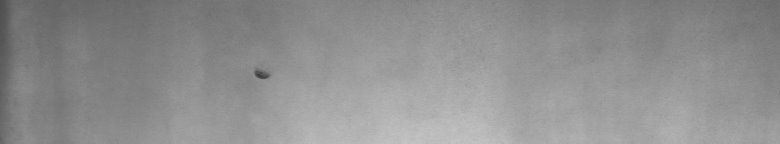fi: (251, 63, 272, 88)
